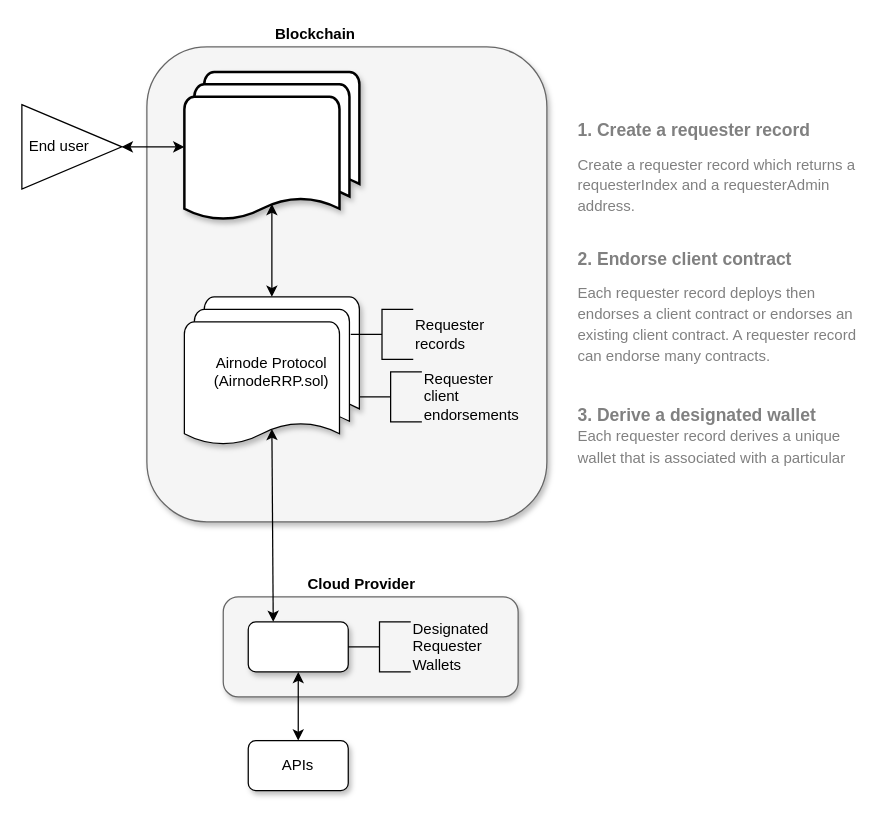
The diagram is 894 pixels wide and 821 high, and some of its shapes have lost their labels. Each missing label, with the centre of its shape:
"Airnode" belongs at [299,648].
"Client (contract)" belongs at [273,148].
